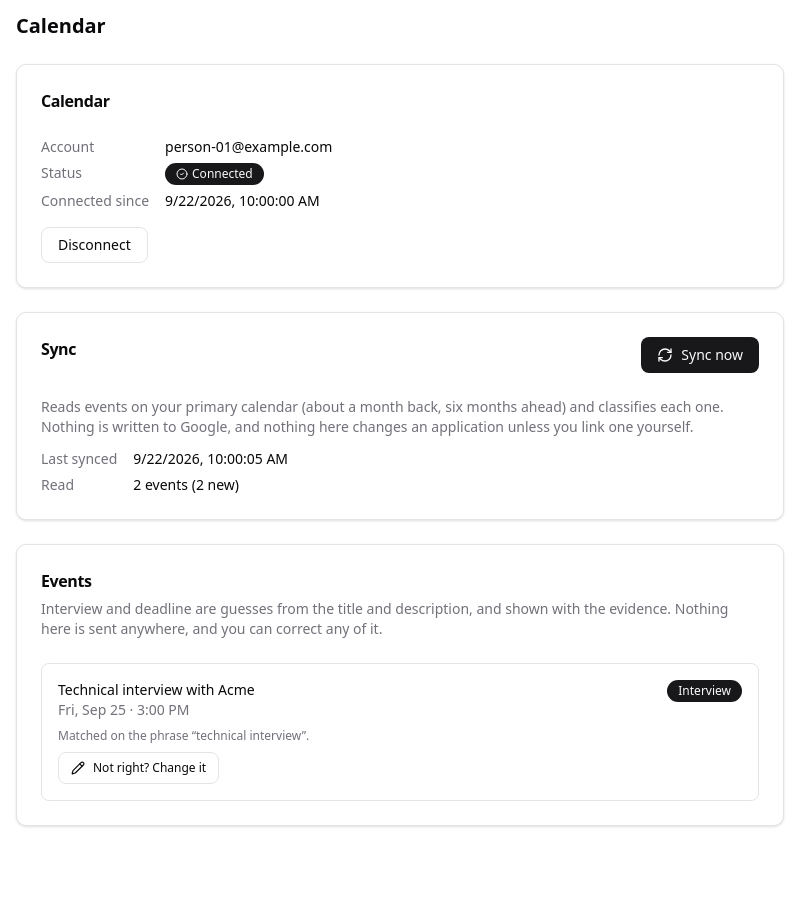
Test: Events › shows an error inline when saving a correction fails
Click the button "Not right? Change it".
click(139, 768)  # box [58,752,219,784]
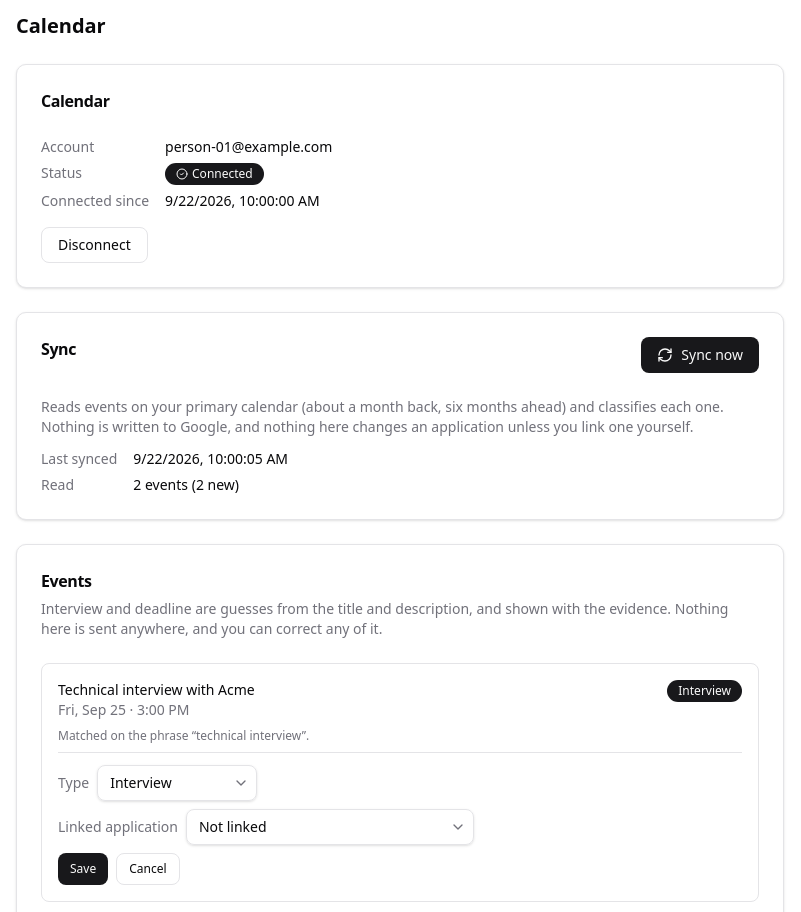
Click the button "Save".
click(83, 869)  # box [58,853,108,885]
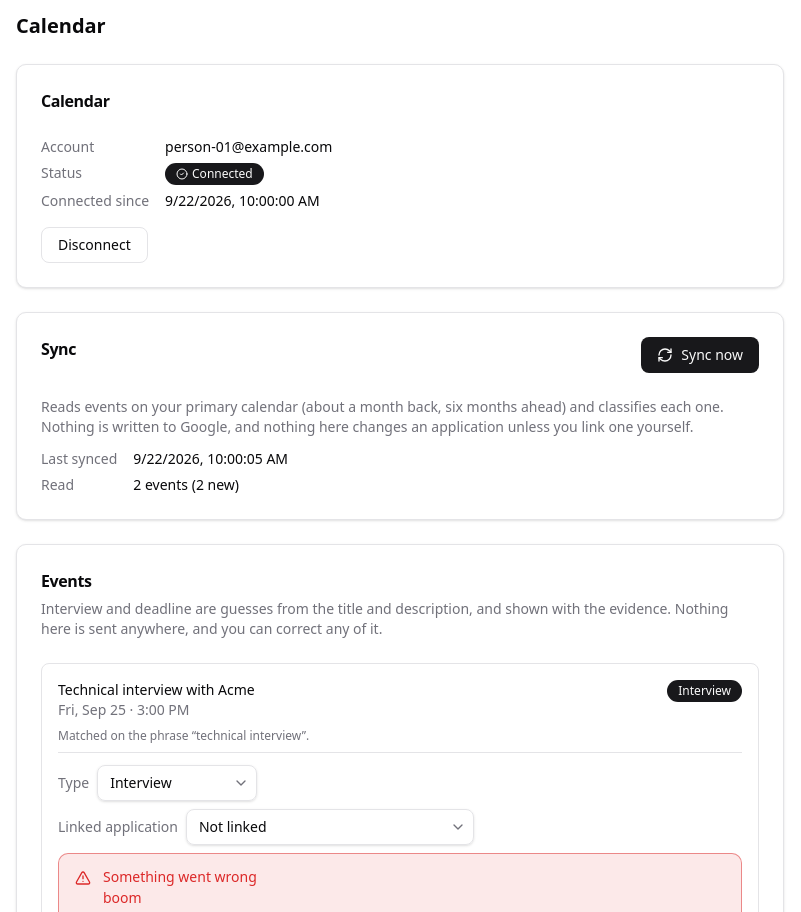
Now the heading "Something went wrong" is shown, box [103,867,257,886]
